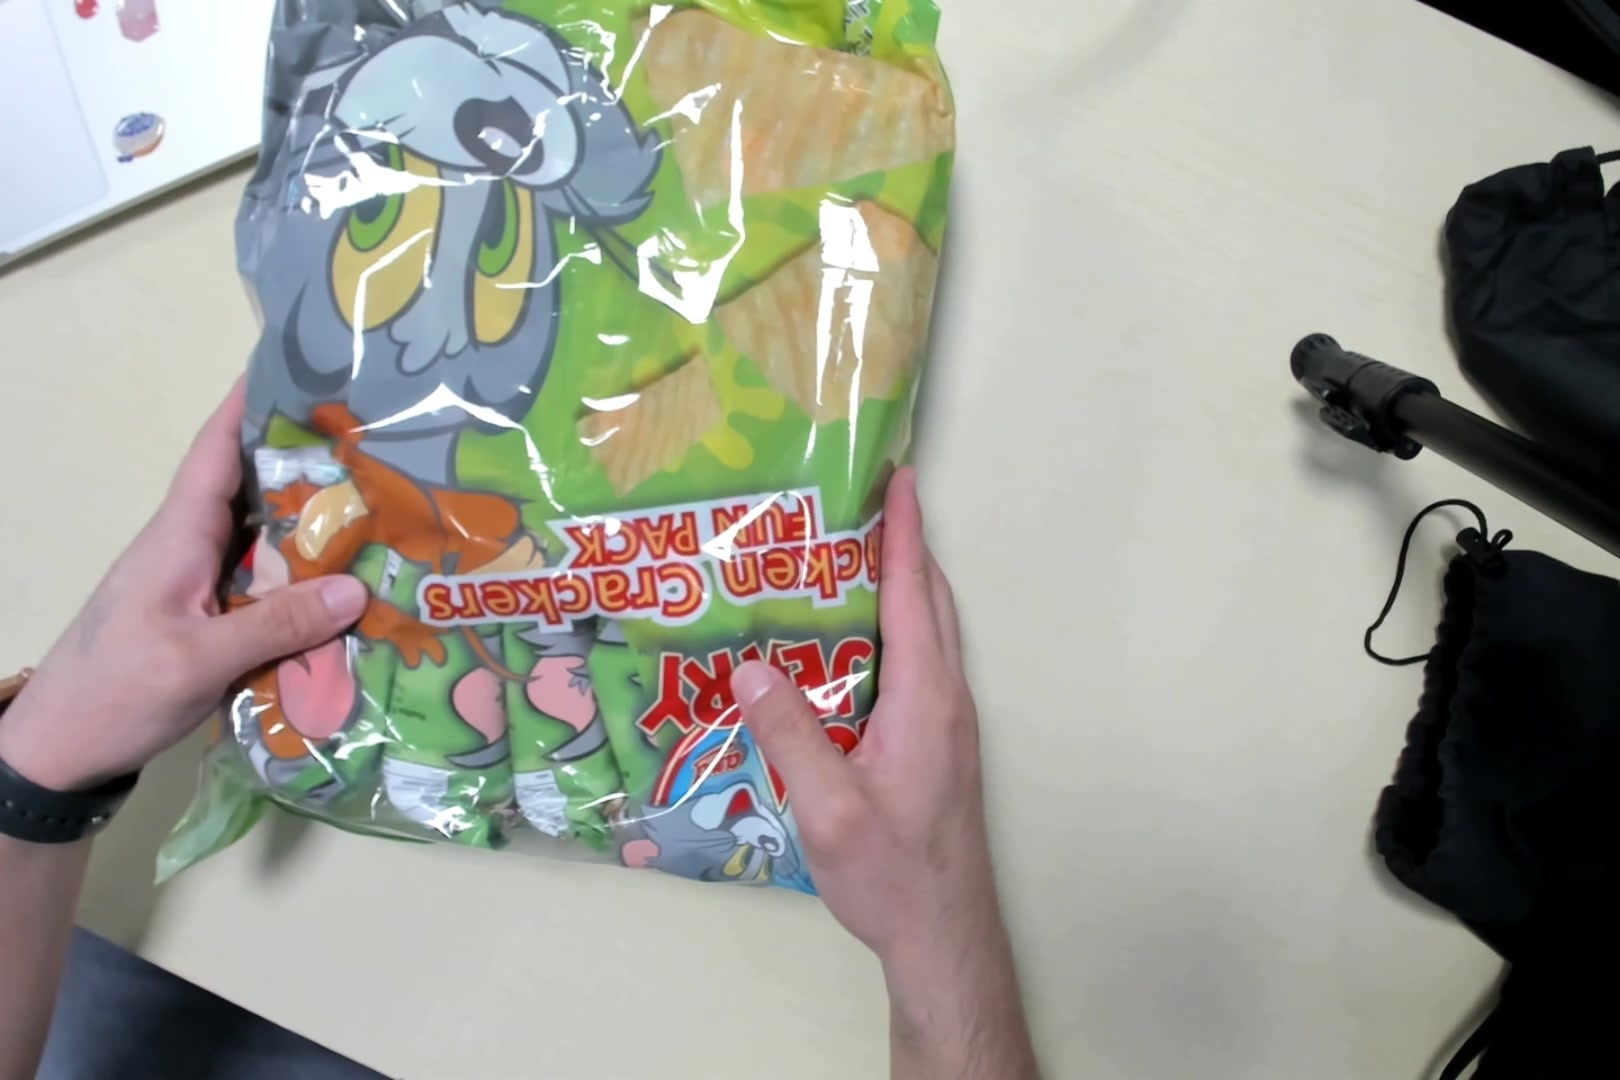PotatoChipsKeropok_200-299g_Halal_NonHealthy: (241, 7, 937, 893)
